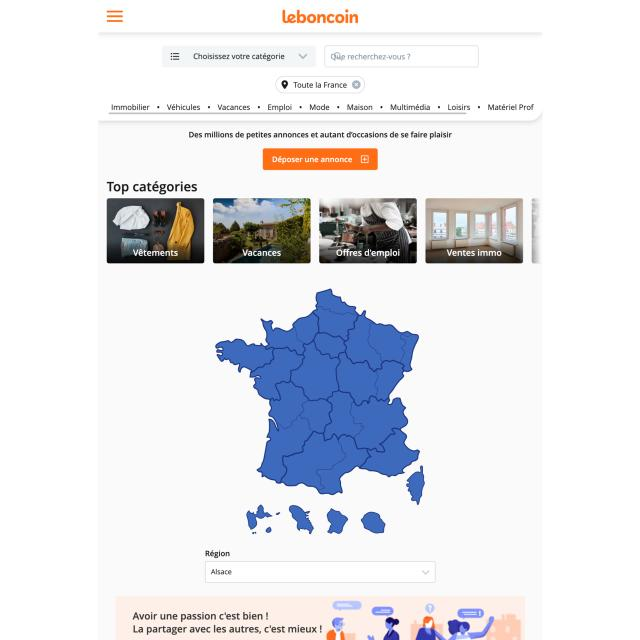input: (323, 44, 482, 69)
logo: (278, 7, 362, 25)
navigation: (107, 199, 526, 264), (110, 98, 539, 119), (105, 8, 126, 24)
